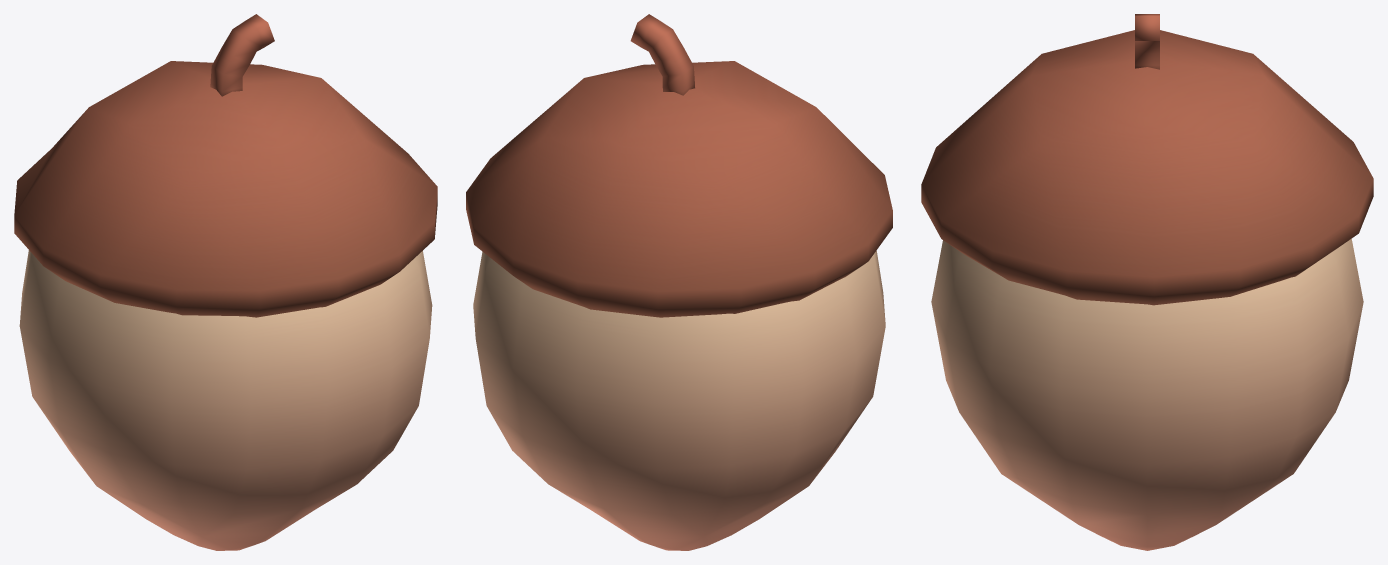
The model's file is Chestnut.fbx.
The picture shows the model from 3 angles, left to right: view 1: azimuth 30°, elevation 25°; view 2: azimuth 150°, elevation 25°; view 3: azimuth 270°, elevation 25°; orthographic projection. The views are drawn at different scales.
Parts seen in each view (by area): view 1: Cube.006; view 2: Cube.006; view 3: Cube.006.
Boxes of the visible parts, left/top/right/bottom form: Cube.006: left=14, top=14, right=437, bottom=550; Cube.006: left=466, top=14, right=892, bottom=550; Cube.006: left=921, top=14, right=1373, bottom=550.
Size of the model in its own units: 165 by 220 by 165.
